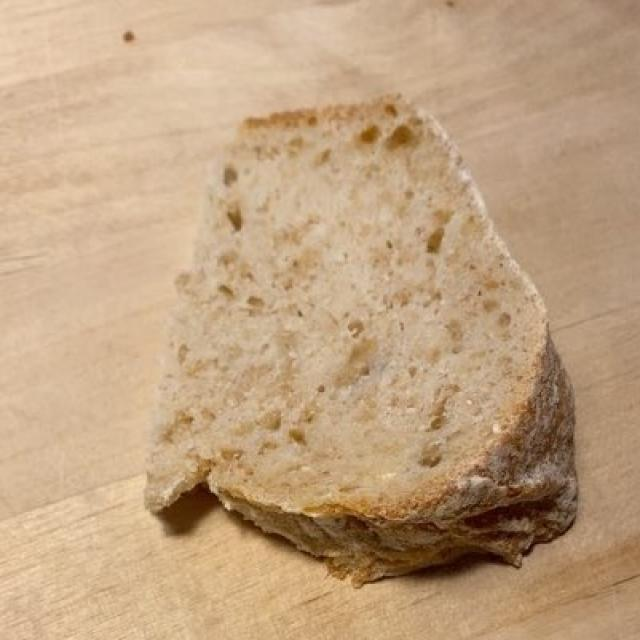bread-whole-wheat: (151, 98, 575, 577)
